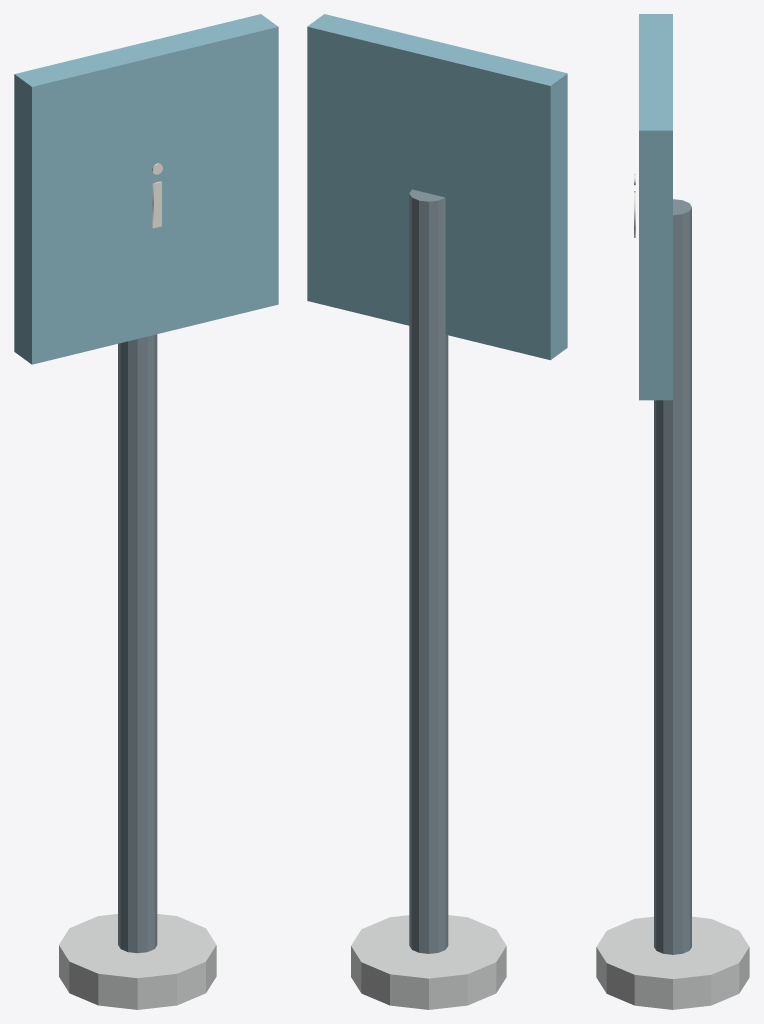
File: information.glb
3 views of the same model, side by side, from view 1: azimuth 30°, elevation 25°; view 2: azimuth 150°, elevation 25°; view 3: azimuth 270°, elevation 25° (orthographic). The views are drawn at different scales.
Parts seen in each view (by area): view 1: information_002, information_000, information_001; view 2: information_002, information_000, information_001; view 3: information_000, information_002, information_001.
Part boxes in pixels (left/top/right/bottom): information_002: left=14, top=14, right=278, bottom=364; information_000: left=118, top=334, right=157, bottom=953; information_001: left=59, top=914, right=216, bottom=1009; information_002: left=307, top=14, right=567, bottom=360; information_000: left=409, top=189, right=448, bottom=953; information_001: left=351, top=915, right=506, bottom=1009; information_000: left=654, top=199, right=691, bottom=954; information_002: left=639, top=14, right=672, bottom=400; information_001: left=596, top=916, right=749, bottom=1009.
Bounding box in the file's own units: 0.65 × 2.35 × 0.36.
